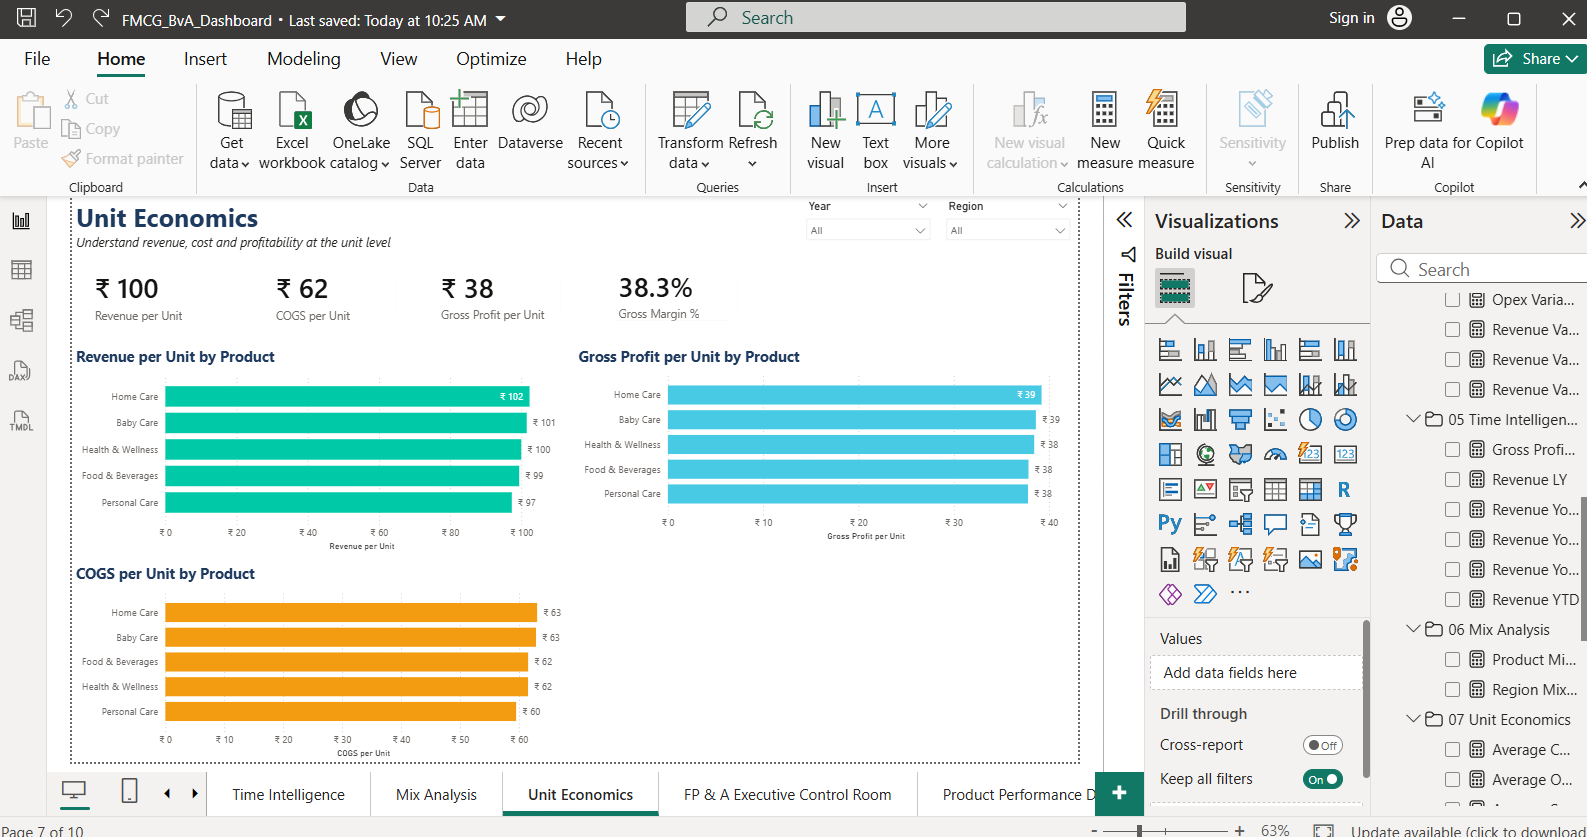

What the dashboard file says about the page in this screenshot:
{"tool":"powerbi","page":{"name":"Unit Economics","canvas":[1280,720],"ordinal":6},"visuals":[{"type":"textbox","box":[0,0,1280,76.3],"z":0},{"type":"slicer","fields":{"Values":["Dim_Date.Year"]},"box":[923.9,0,178.1,76.3],"z":1000},{"type":"slicer","fields":{"Values":["Dim_Region.Region"]},"box":[1101.9,0,178.1,76.3],"z":2000},{"type":"cardVisual","fields":{"Data":["_Measures.Revenue per Unit"]},"box":[0,76.3,198.8,101.8],"z":3000},{"type":"cardVisual","fields":{"Data":["_Measures.Gross Margin %"]},"box":[666.3,74.7,198.8,101.8],"z":4000},{"type":"cardVisual","fields":{"Data":["_Measures.Gross Profit per Unit"]},"box":[440.5,76.3,198.8,100.2],"z":5000},{"type":"cardVisual","fields":{"Data":["_Measures.COGS per Unit"]},"box":[230.6,76.3,198.8,101.8],"z":6000},{"type":"clusteredBarChart","fields":{"Category":["Dim_Product.Product"],"Y":["_Measures.Revenue per Unit"]},"box":[0,190.8,639.2,265.5],"z":7000},{"type":"clusteredBarChart","fields":{"Category":["Dim_Product.Product"],"Y":["_Measures.Gross Profit per Unit"]},"box":[639.2,190.8,640.8,252.8],"z":8000},{"type":"clusteredBarChart","fields":{"Category":["Dim_Product.Product"],"Y":["_Measures.COGS per Unit"]},"box":[0,467.5,640.8,252.8],"z":9000}]}

Visuals, with their boxes on the page's 1280x720 design canvas (x1, y1, x2, y2). These are canvas units, not pixel positions in the 1587x837 screenshot, which may show the page scaled, cropped or inside an application window:
textbox: x1=0, y1=0, x2=1280, y2=76
slicer - Dim_Date.Year: x1=924, y1=0, x2=1102, y2=76
slicer - Dim_Region.Region: x1=1102, y1=0, x2=1280, y2=76
cardVisual - _Measures.Revenue per Unit: x1=0, y1=76, x2=199, y2=178
cardVisual - _Measures.Gross Margin %: x1=666, y1=75, x2=865, y2=176
cardVisual - _Measures.Gross Profit per Unit: x1=440, y1=76, x2=639, y2=176
cardVisual - _Measures.COGS per Unit: x1=231, y1=76, x2=429, y2=178
clusteredBarChart - Dim_Product.Product x _Measures.Revenue per Unit: x1=0, y1=191, x2=639, y2=456
clusteredBarChart - Dim_Product.Product x _Measures.Gross Profit per Unit: x1=639, y1=191, x2=1280, y2=444
clusteredBarChart - Dim_Product.Product x _Measures.COGS per Unit: x1=0, y1=468, x2=641, y2=720
